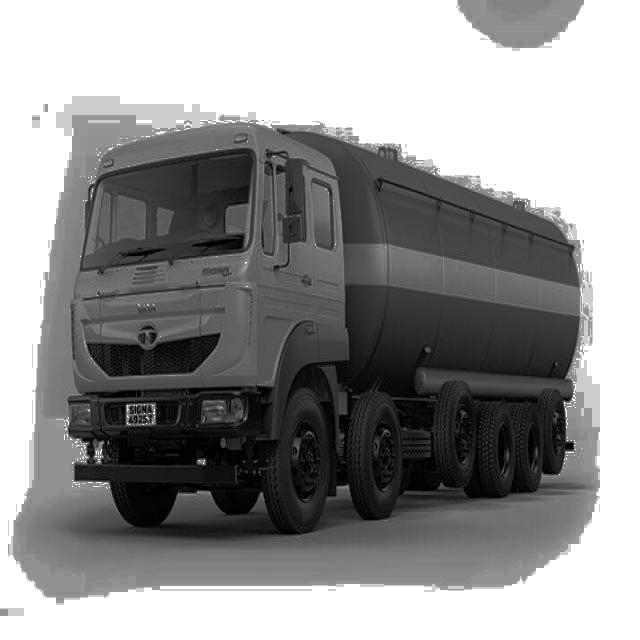HCV: (49, 112, 586, 550)
